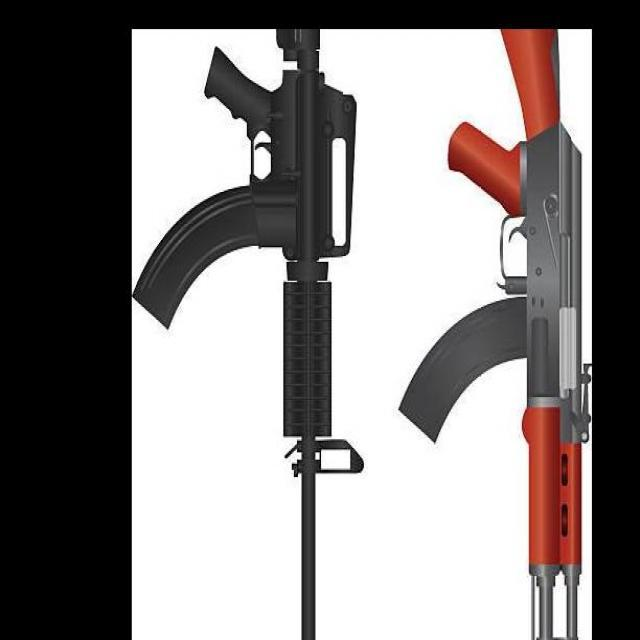weapon: (132, 29, 365, 640), (398, 29, 591, 640)
